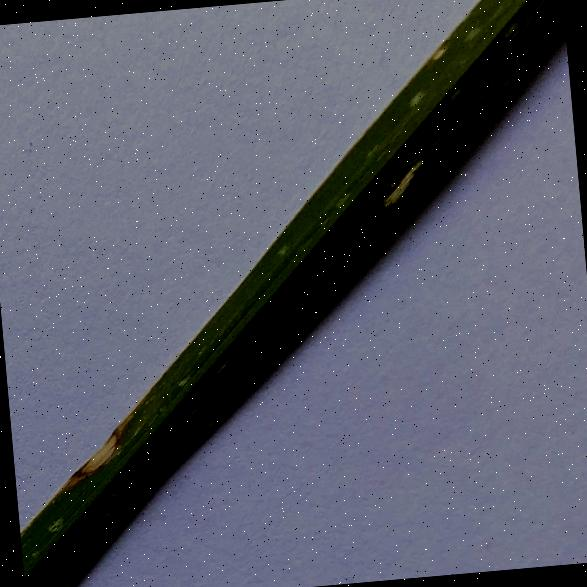Leaf_smut: (56, 408, 138, 482), (366, 141, 435, 214)
